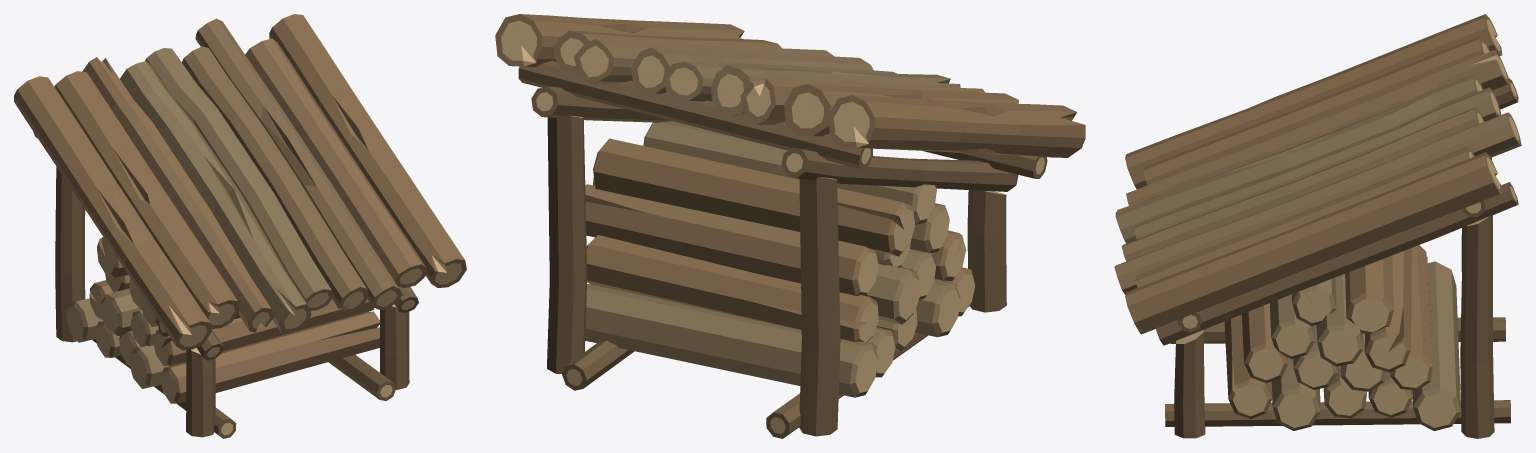
File: rpgpp_ag_shed_wood_02a_log.fbx
3 views of the same model, side by side, from view 1: azimuth 30°, elevation 25°; view 2: azimuth 150°, elevation 25°; view 3: azimuth 270°, elevation 25° (orthographic). The views are drawn at different scales.
Parts seen in each view (by area): view 1: rpgpp_ag_shed_wood_02a_log; view 2: rpgpp_ag_shed_wood_02a_log; view 3: rpgpp_ag_shed_wood_02a_log.
Boxes of the visible parts, x1,y1,x2,y2 form: rpgpp_ag_shed_wood_02a_log: (14,14,466,438); rpgpp_ag_shed_wood_02a_log: (495,14,1085,438); rpgpp_ag_shed_wood_02a_log: (1114,14,1521,438).
Bounding box in the file's own units: 2.74 × 2.47 × 2.99.
